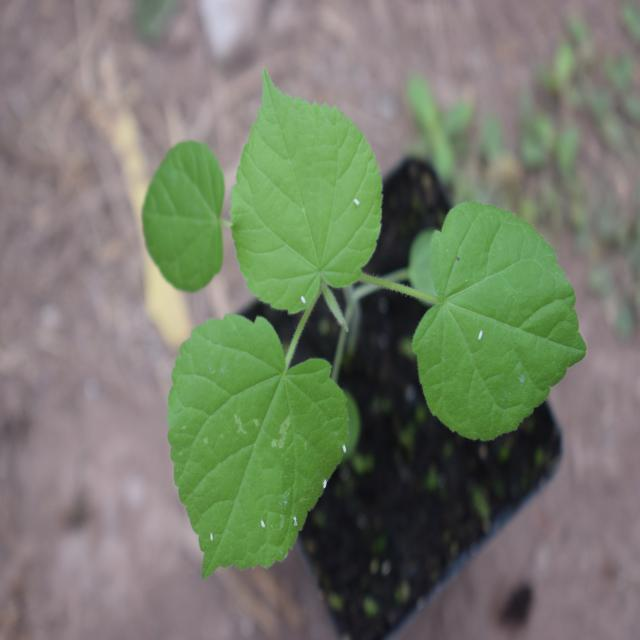abutilon theophrasti: (154, 100, 584, 568)
